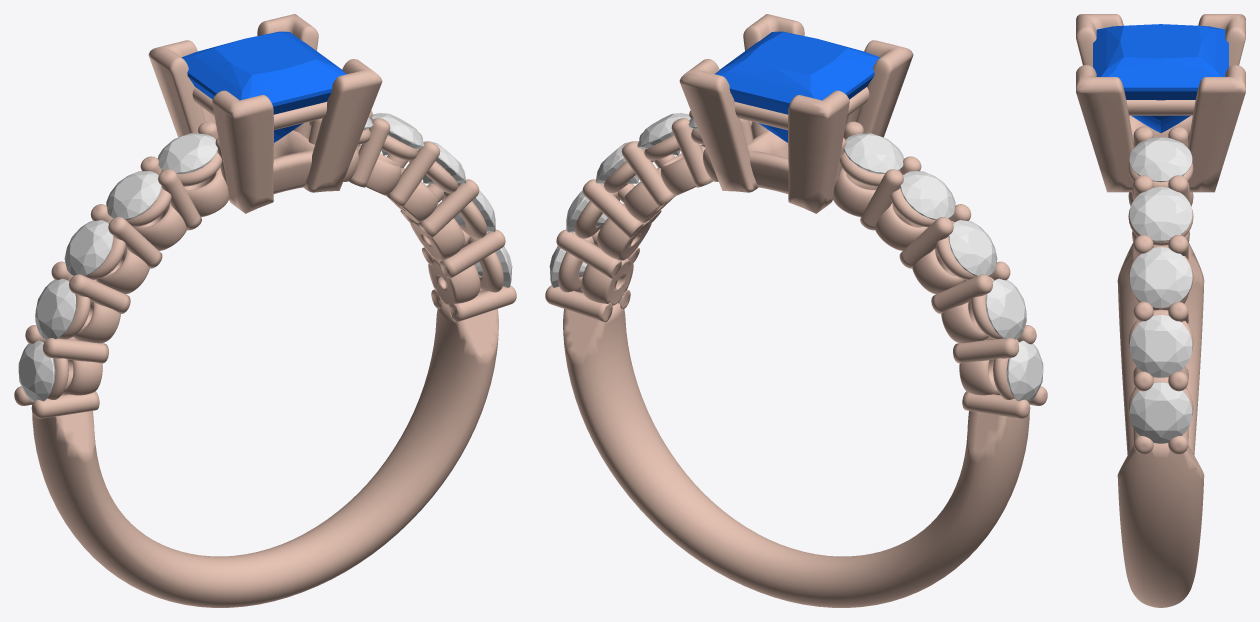
Rendered from bluesapphire-princess-rosegold-protectededges4prongs-taperedband-11stone.glb.
3 renders of one model, left to right at view 1: azimuth 30°, elevation 25°; view 2: azimuth 150°, elevation 25°; view 3: azimuth 270°, elevation 25°, orthographic.
Visible parts, largest first — view 1: metal, stone, side.004, side.005, side.001, side.006, side, side.008; view 2: metal, stone, side.004, side.005, side.001, side.006, side, side.008; view 3: metal, stone, side.003, side.009, side.002, side.008, side.007.
Boxes of the visible parts, left/top/right/bottom form: metal: left=14, top=14, right=516, bottom=607; stone: left=181, top=31, right=346, bottom=142; side.004: left=64, top=220, right=113, bottom=276; side.005: left=106, top=171, right=161, bottom=219; side.001: left=35, top=278, right=76, bottom=339; side.006: left=157, top=133, right=217, bottom=173; side: left=18, top=340, right=55, bottom=402; side.008: left=371, top=113, right=424, bottom=155; metal: left=545, top=14, right=1047, bottom=607; stone: left=715, top=31, right=880, bottom=142; side.004: left=948, top=220, right=997, bottom=276; side.005: left=900, top=171, right=955, bottom=219; side.001: left=985, top=278, right=1026, bottom=339; side.006: left=844, top=133, right=904, bottom=173; side: left=1006, top=340, right=1043, bottom=402; side.008: left=637, top=113, right=690, bottom=155; metal: left=1076, top=14, right=1245, bottom=607; stone: left=1093, top=24, right=1228, bottom=132; side.003: left=1129, top=315, right=1192, bottom=377; side.009: left=1129, top=247, right=1192, bottom=307; side.002: left=1129, top=382, right=1192, bottom=443; side.008: left=1129, top=187, right=1192, bottom=241; side.007: left=1129, top=137, right=1192, bottom=182.
Size of the model in its own units: 22 by 23.85 by 6.77.
